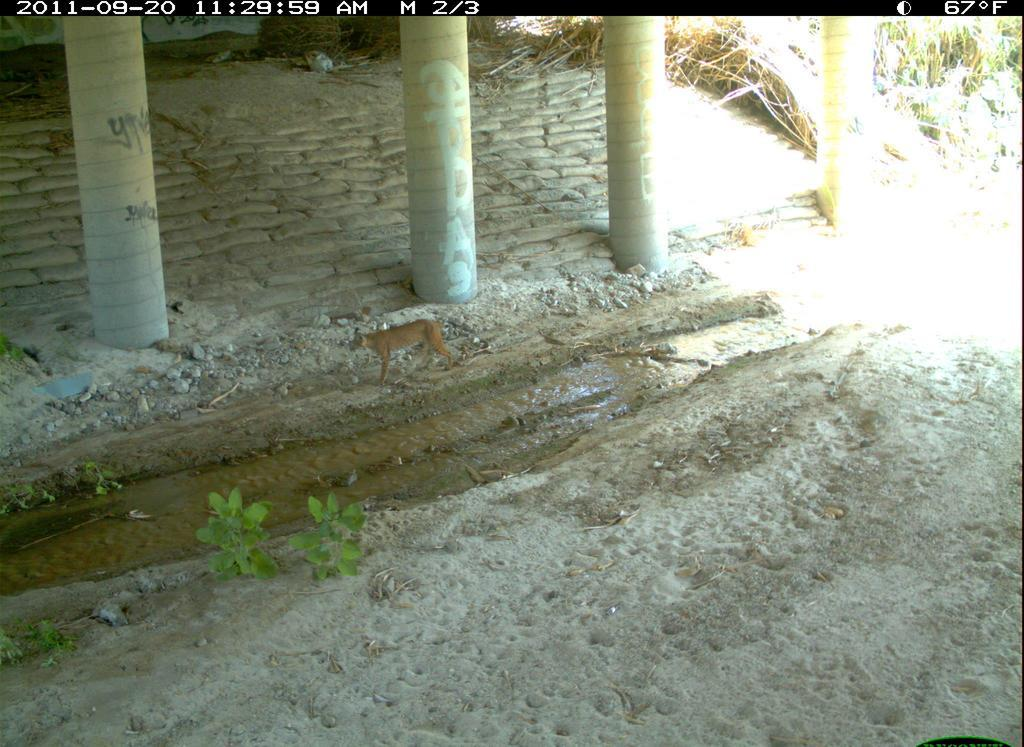bobcat: (690, 626, 917, 747)
